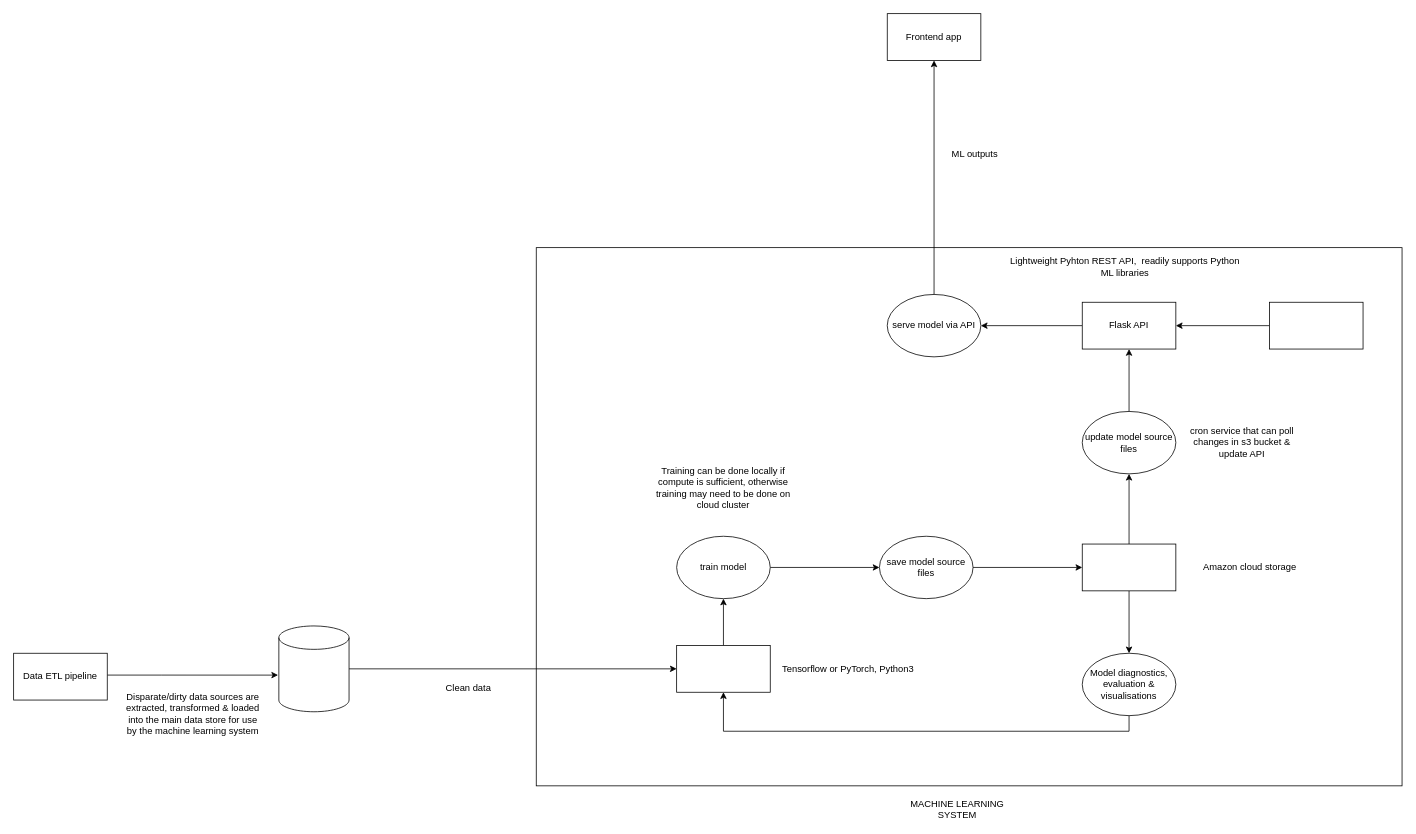
Image size: 1416x834. Some labels were removed from this diagram. Each missing label, with the centre of its shape:
"Jupyter Notebook" belongs at [723,668].
"Main data store" belongs at [313,668].
"S3" belongs at [1128,567].
"Ubuntu server" belongs at [1316,325].
